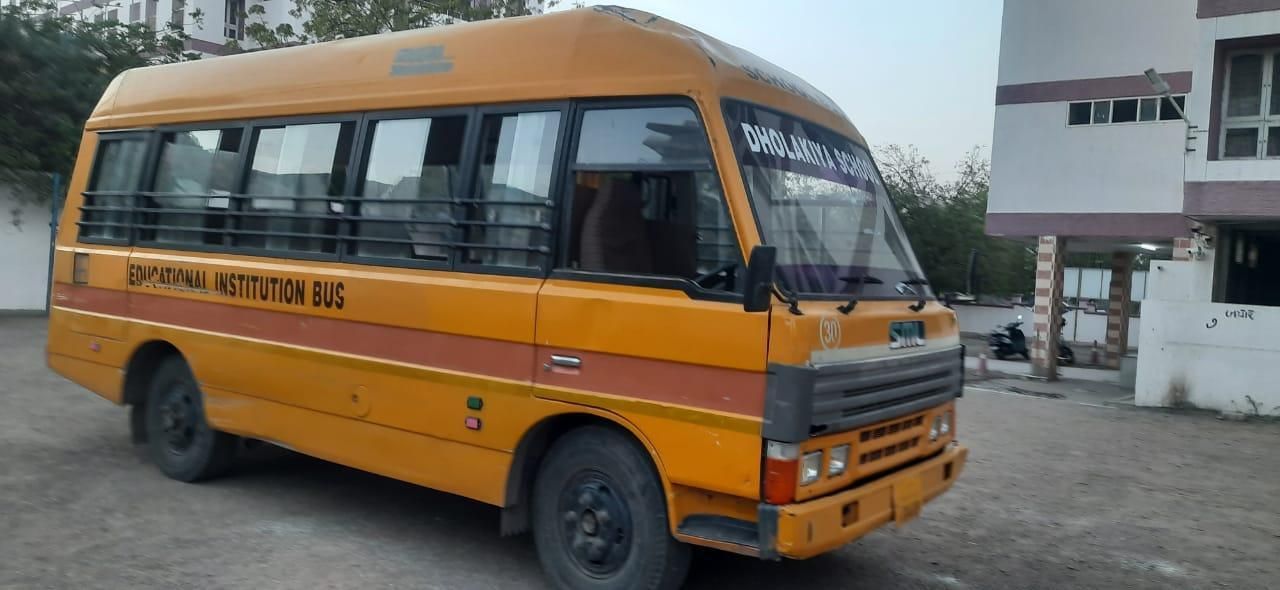Bus: (42, 4, 1004, 582)
